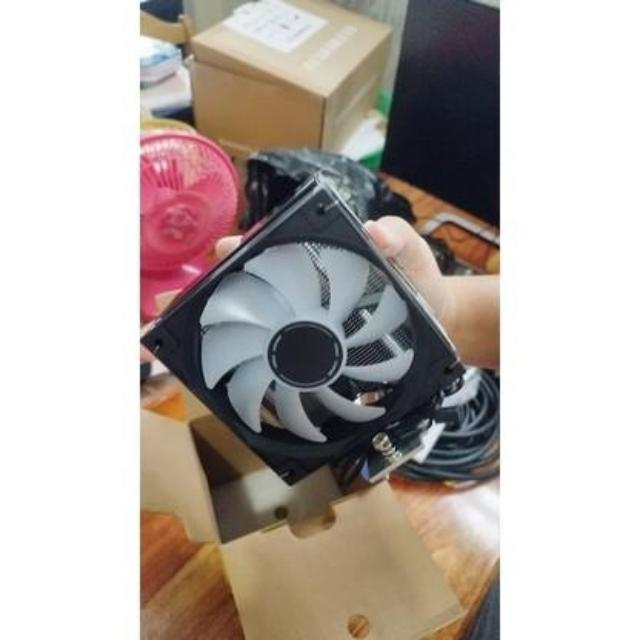CPU_Fan: (138, 175, 470, 502)
